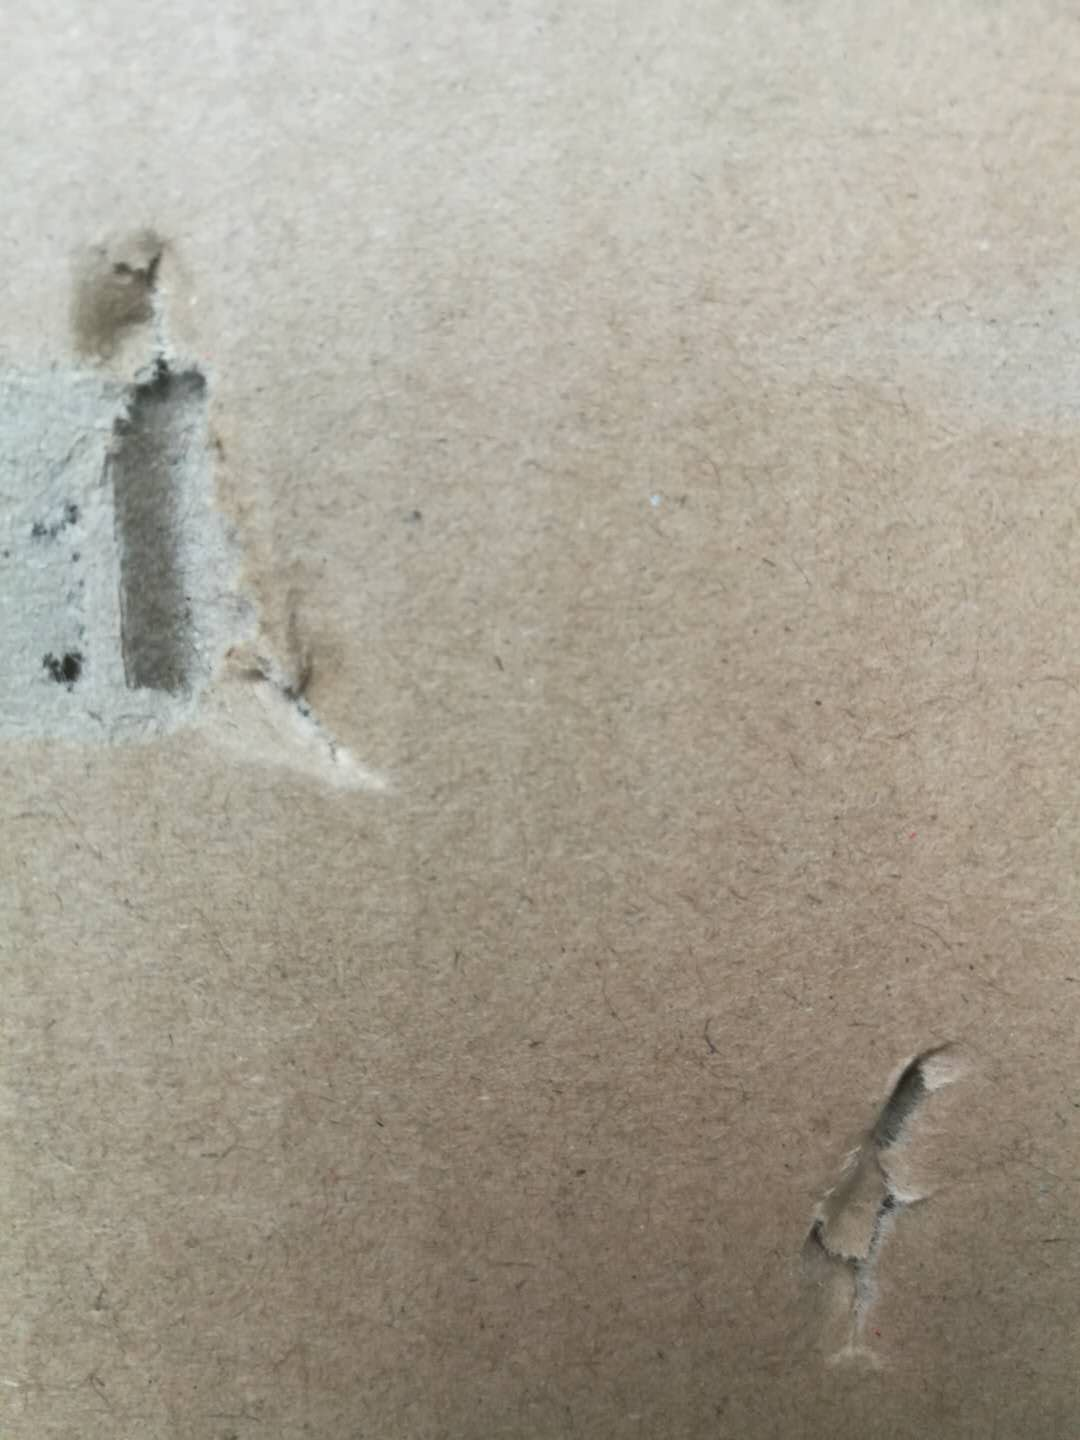defect: (2, 200, 439, 832), (783, 1013, 1022, 1395)
